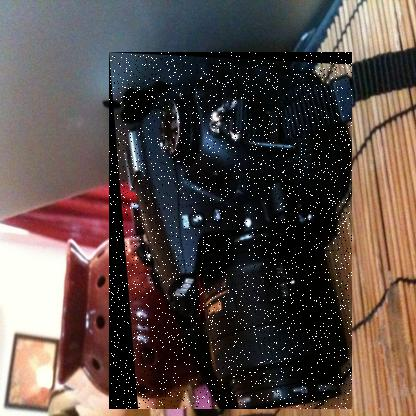Camera: (110, 53, 354, 411)
